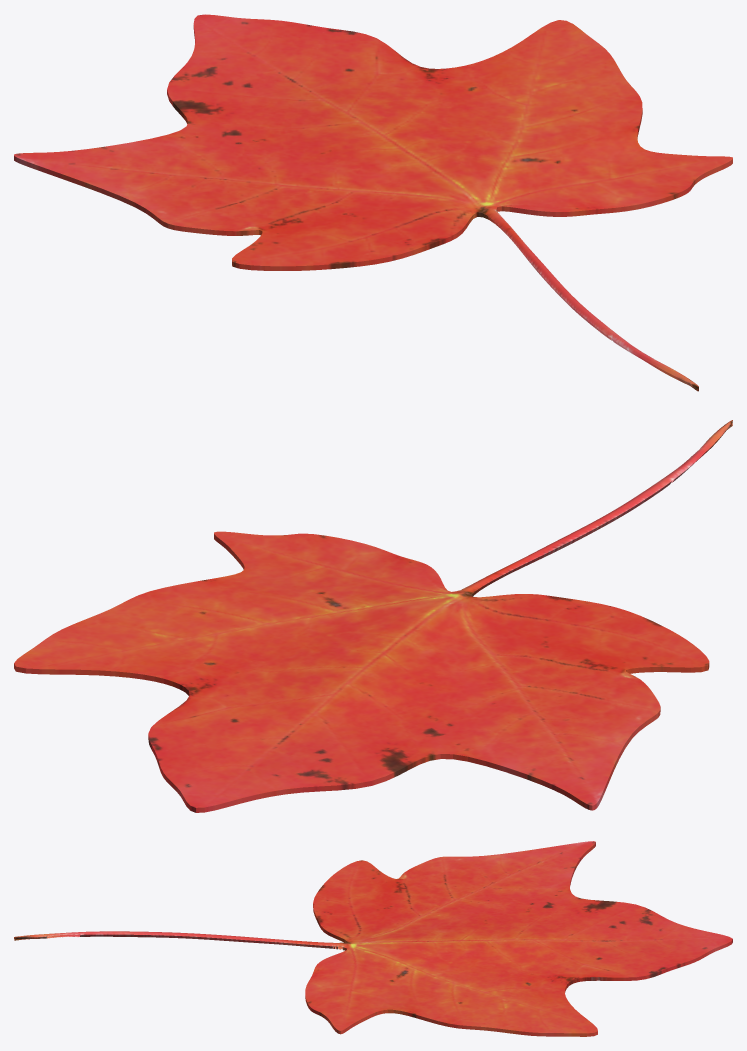
File: leaf_1_atlas.fbx
3 renders of one model, top to bottom at view 1: azimuth 30°, elevation 25°; view 2: azimuth 150°, elevation 25°; view 3: azimuth 270°, elevation 25°, orthographic. The views are drawn at different scales.
Visible parts, largest first — view 1: m_waterDrop_leaf_01; view 2: m_waterDrop_leaf_01; view 3: m_waterDrop_leaf_01.
Boxes of the visible parts, x1,y1,x2,y2 form: m_waterDrop_leaf_01: [14, 14, 732, 391]; m_waterDrop_leaf_01: [14, 420, 732, 812]; m_waterDrop_leaf_01: [14, 841, 732, 1036].
Size of the model in its own units: 120 by 2.43 by 190.
